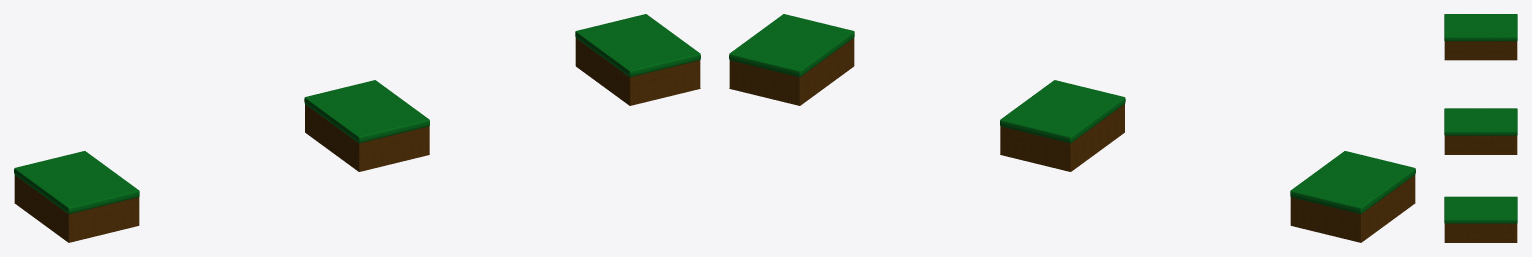
Rendered from WtoS.obj.
The picture shows the model from 3 angles, left to right: view 1: azimuth 30°, elevation 25°; view 2: azimuth 150°, elevation 25°; view 3: azimuth 270°, elevation 25°; orthographic projection. The views are drawn at different scales.
Parts seen in each view (by area): view 1: Grass.045_Grass.006, Grass.047_Grass.011, Grass.046_Grass.012, Dirt_Wall.155_Dirt_Wall.048, Dirt_Wall.150_Dirt_Wall.036, Dirt_Wall.196_Dirt_Wall.134, Dirt_Wall.183_Dirt_Wall.133, Dirt_Wall.149_Dirt_Wall.032, Dirt_Wall.182_Dirt_Wall.132, Dirt_Wall.156_Dirt_Wall.049, Dirt_Wall.148_Dirt_Wall.025, Dirt_Wall.157_Dirt_Wall.050 (+3 smaller); view 2: Grass.045_Grass.006, Grass.047_Grass.011, Grass.046_Grass.012, Dirt_Wall.151_Dirt_Wall.037, Dirt_Wall.197_Dirt_Wall.135, Dirt_Wall.154_Dirt_Wall.045, Dirt_Wall.153_Dirt_Wall.040, Dirt_Wall.198_Dirt_Wall.136, Dirt_Wall.182_Dirt_Wall.132, Dirt_Wall.157_Dirt_Wall.050, Dirt_Wall.152_Dirt_Wall.038, Dirt_Wall.148_Dirt_Wall.025 (+3 smaller); view 3: Grass.045_Grass.006, Grass.047_Grass.011, Grass.046_Grass.012, Dirt_Wall.171_Dirt_Wall.084, Dirt_Wall.137_Dirt_Wall.003, Dirt_Wall.168_Dirt_Wall.081, Dirt_Wall.176_Dirt_Wall.126, Dirt_Wall.142_Dirt_Wall.011, Dirt_Wall.163_Dirt_Wall.076, Dirt_Wall.162_Dirt_Wall.075, Dirt_Wall.177_Dirt_Wall.127.
Part boxes in pixels (<box>): Grass.045_Grass.006: <box>577,14,698,70</box>; Grass.047_Grass.011: <box>306,80,428,136</box>; Grass.046_Grass.012: <box>16,151,137,207</box>; Dirt_Wall.155_Dirt_Wall.048: <box>359,135,429,171</box>; Dirt_Wall.150_Dirt_Wall.036: <box>630,69,699,105</box>; Dirt_Wall.196_Dirt_Wall.134: <box>69,206,138,242</box>; Dirt_Wall.183_Dirt_Wall.133: <box>69,190,139,223</box>; Dirt_Wall.149_Dirt_Wall.032: <box>630,53,700,86</box>; Dirt_Wall.182_Dirt_Wall.132: <box>14,184,68,242</box>; Dirt_Wall.156_Dirt_Wall.049: <box>359,119,429,151</box>; Dirt_Wall.148_Dirt_Wall.025: <box>576,48,629,105</box>; Dirt_Wall.157_Dirt_Wall.050: <box>305,113,358,171</box>; Grass.045_Grass.006: <box>731,14,852,70</box>; Grass.047_Grass.011: <box>1001,80,1123,136</box>; Grass.046_Grass.012: <box>1292,151,1413,207</box>; Dirt_Wall.151_Dirt_Wall.037: <box>730,68,799,105</box>; Dirt_Wall.197_Dirt_Wall.135: <box>1291,205,1360,242</box>; Dirt_Wall.154_Dirt_Wall.045: <box>1000,136,1070,171</box>; Dirt_Wall.153_Dirt_Wall.040: <box>1000,119,1070,152</box>; Dirt_Wall.198_Dirt_Wall.136: <box>1290,190,1360,222</box>; Dirt_Wall.182_Dirt_Wall.132: <box>1361,183,1415,242</box>; Dirt_Wall.157_Dirt_Wall.050: <box>1071,112,1124,171</box>; Dirt_Wall.152_Dirt_Wall.038: <box>729,53,799,85</box>; Dirt_Wall.148_Dirt_Wall.025: <box>800,46,853,105</box>; Grass.045_Grass.006: <box>1445,196,1516,219</box>; Grass.047_Grass.011: <box>1445,108,1516,131</box>; Grass.046_Grass.012: <box>1445,14,1516,36</box>; Dirt_Wall.171_Dirt_Wall.084: <box>1445,46,1516,60</box>; Dirt_Wall.137_Dirt_Wall.003: <box>1445,229,1516,242</box>; Dirt_Wall.168_Dirt_Wall.081: <box>1445,141,1516,154</box>; Dirt_Wall.176_Dirt_Wall.126: <box>1445,36,1516,47</box>; Dirt_Wall.142_Dirt_Wall.011: <box>1445,219,1516,230</box>; Dirt_Wall.163_Dirt_Wall.076: <box>1445,131,1516,141</box>; Dirt_Wall.162_Dirt_Wall.075: <box>1445,108,1516,108</box>; Dirt_Wall.177_Dirt_Wall.127: <box>1445,14,1516,14</box>.
Size of the model in its own units: 51.97 by 2.75 by 7.85.
Materials: 78 (78 with a texture image).
